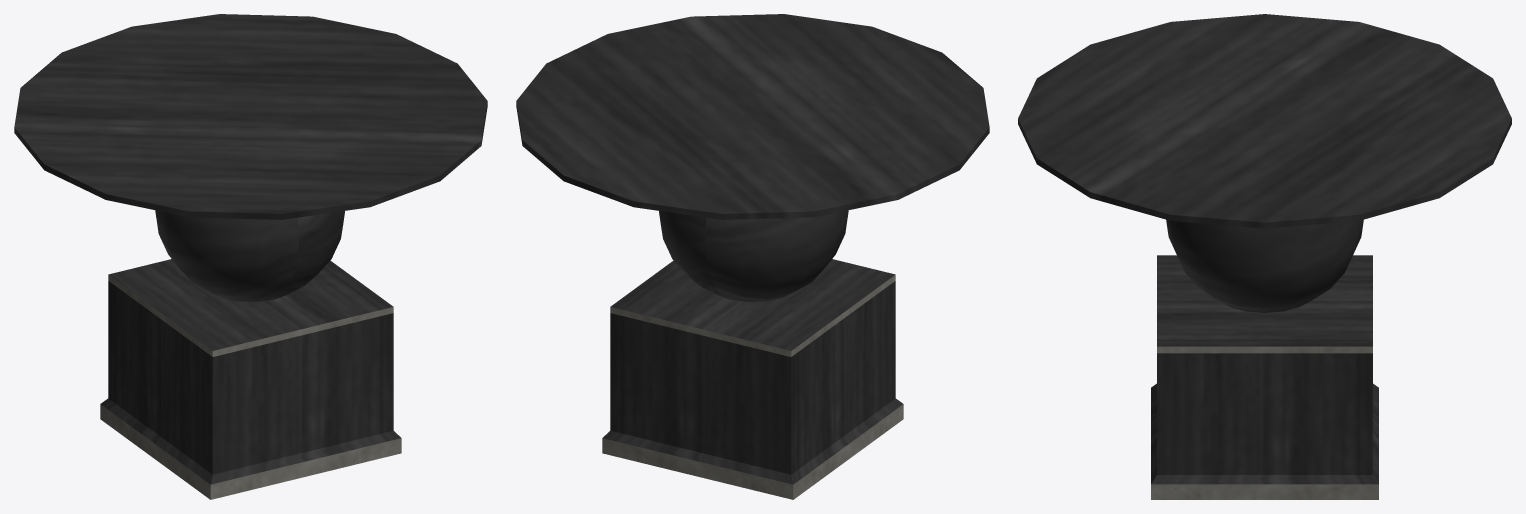
Rendered from table_01.fbx.
The picture shows the model from 3 angles, left to right: view 1: azimuth 30°, elevation 25°; view 2: azimuth 150°, elevation 25°; view 3: azimuth 270°, elevation 25°; orthographic projection. The views are drawn at different scales.
Parts seen in each view (by area): view 1: table_01; view 2: table_01; view 3: table_01.
Boxes of the visible parts, x1,y1,x2,y2 form: table_01: (14,14,487,499); table_01: (516,14,989,499); table_01: (1018,14,1511,499).
Size of the model in its own units: 119 by 88.51 by 119.
